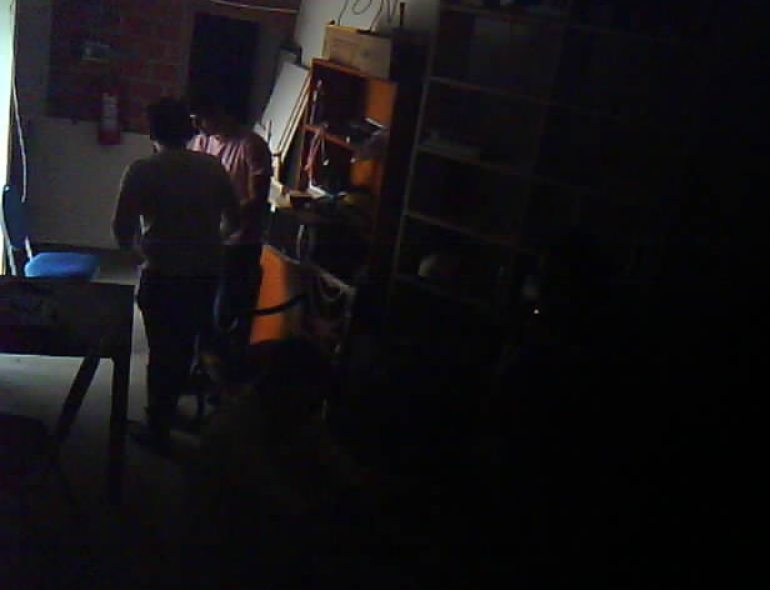person: (121, 90, 233, 498), (190, 31, 284, 398)
